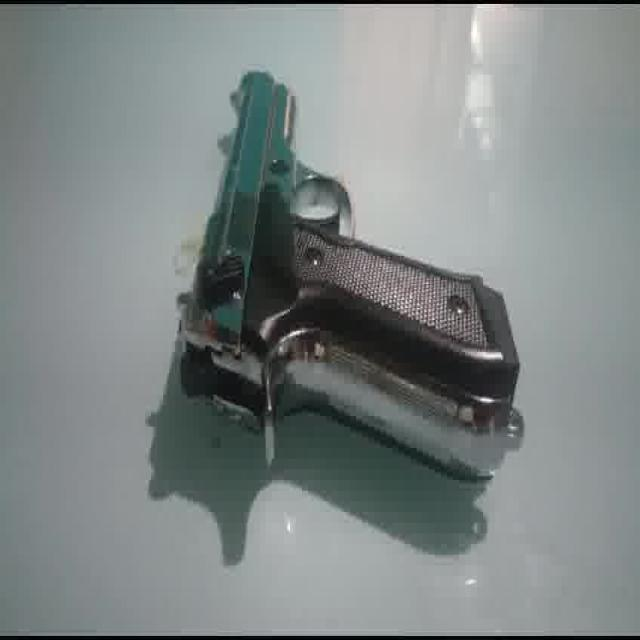weapon: (176, 67, 524, 482)
